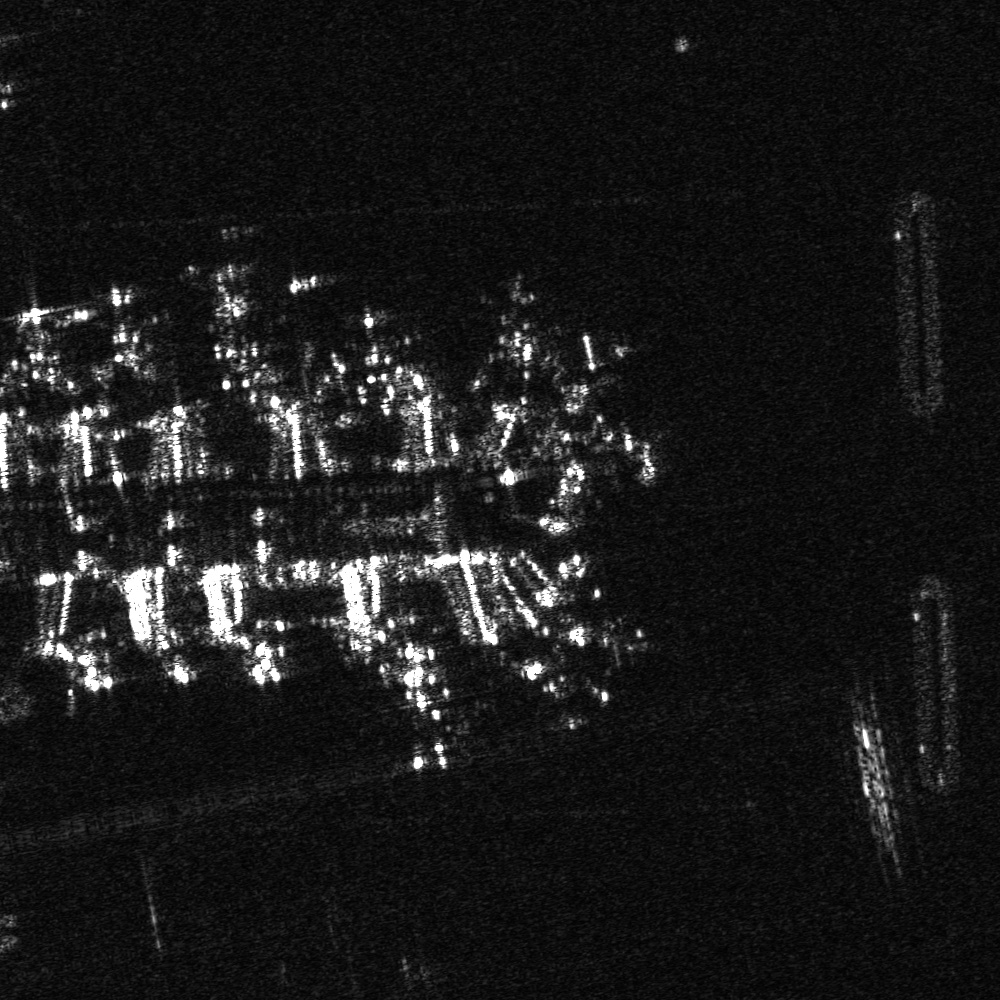A220: (4, 296, 76, 395)
A320/321: (379, 666, 473, 776), (204, 260, 280, 375), (481, 269, 550, 376), (559, 611, 652, 672), (345, 304, 408, 390)
Boeing737: (512, 651, 626, 714)
other: (95, 282, 158, 383)
